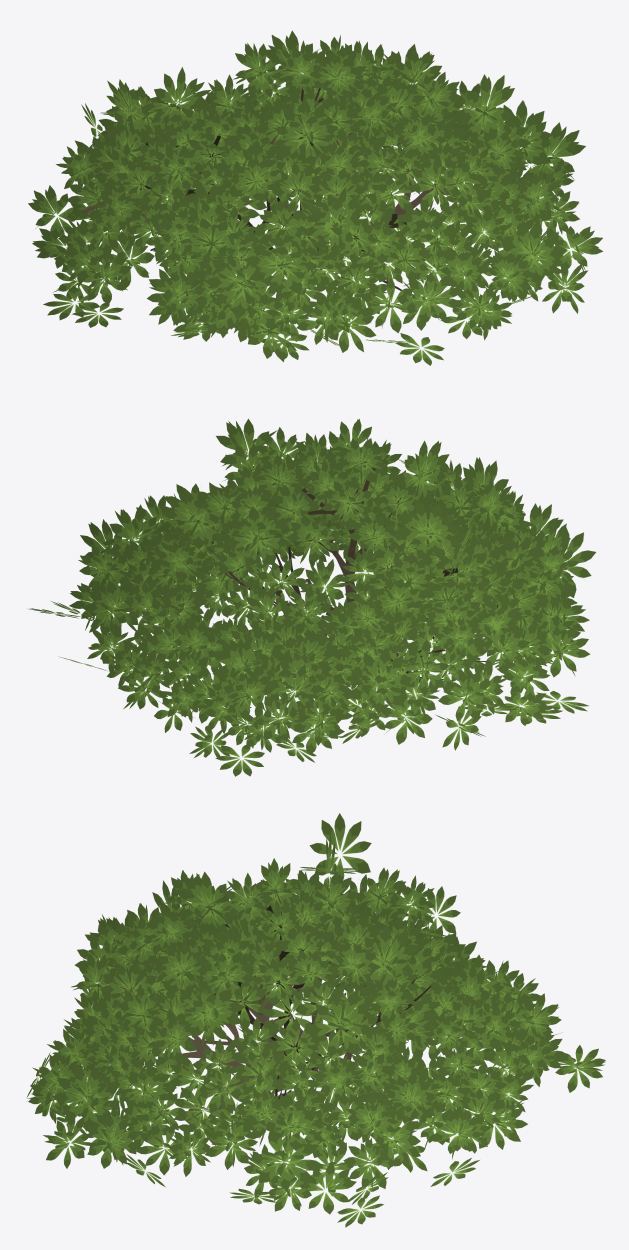
File: alp_Env_Bush_01.glb
3 views of the same model, one above another, from view 1: azimuth 30°, elevation 25°; view 2: azimuth 150°, elevation 25°; view 3: azimuth 270°, elevation 25° (orthographic). The views are drawn at different scales.
Visible parts, largest first — view 1: SM_Env_Bush_01_Leaves_LOD0, SM_Env_Bush_01_Branches_LOD0; view 2: SM_Env_Bush_01_Leaves_LOD0, SM_Env_Bush_01_Branches_LOD0; view 3: SM_Env_Bush_01_Leaves_LOD0, SM_Env_Bush_01_Branches_LOD0.
Part boxes in pixels (x1=…): SM_Env_Bush_01_Leaves_LOD0: x1=28, y1=30, x2=602, y2=365; SM_Env_Bush_01_Branches_LOD0: x1=81, y1=81, x2=471, y2=292; SM_Env_Bush_01_Leaves_LOD0: x1=27, y1=418, x2=596, y2=776; SM_Env_Bush_01_Branches_LOD0: x1=198, y1=467, x2=498, y2=682; SM_Env_Bush_01_Leaves_LOD0: x1=26, y1=813, x2=605, y2=1227; SM_Env_Bush_01_Branches_LOD0: x1=118, y1=888, x2=454, y2=1142.
Bounding box in the file's own units: 2.79 × 1.28 × 2.68.
Materials: 2 (2 with a texture image).
